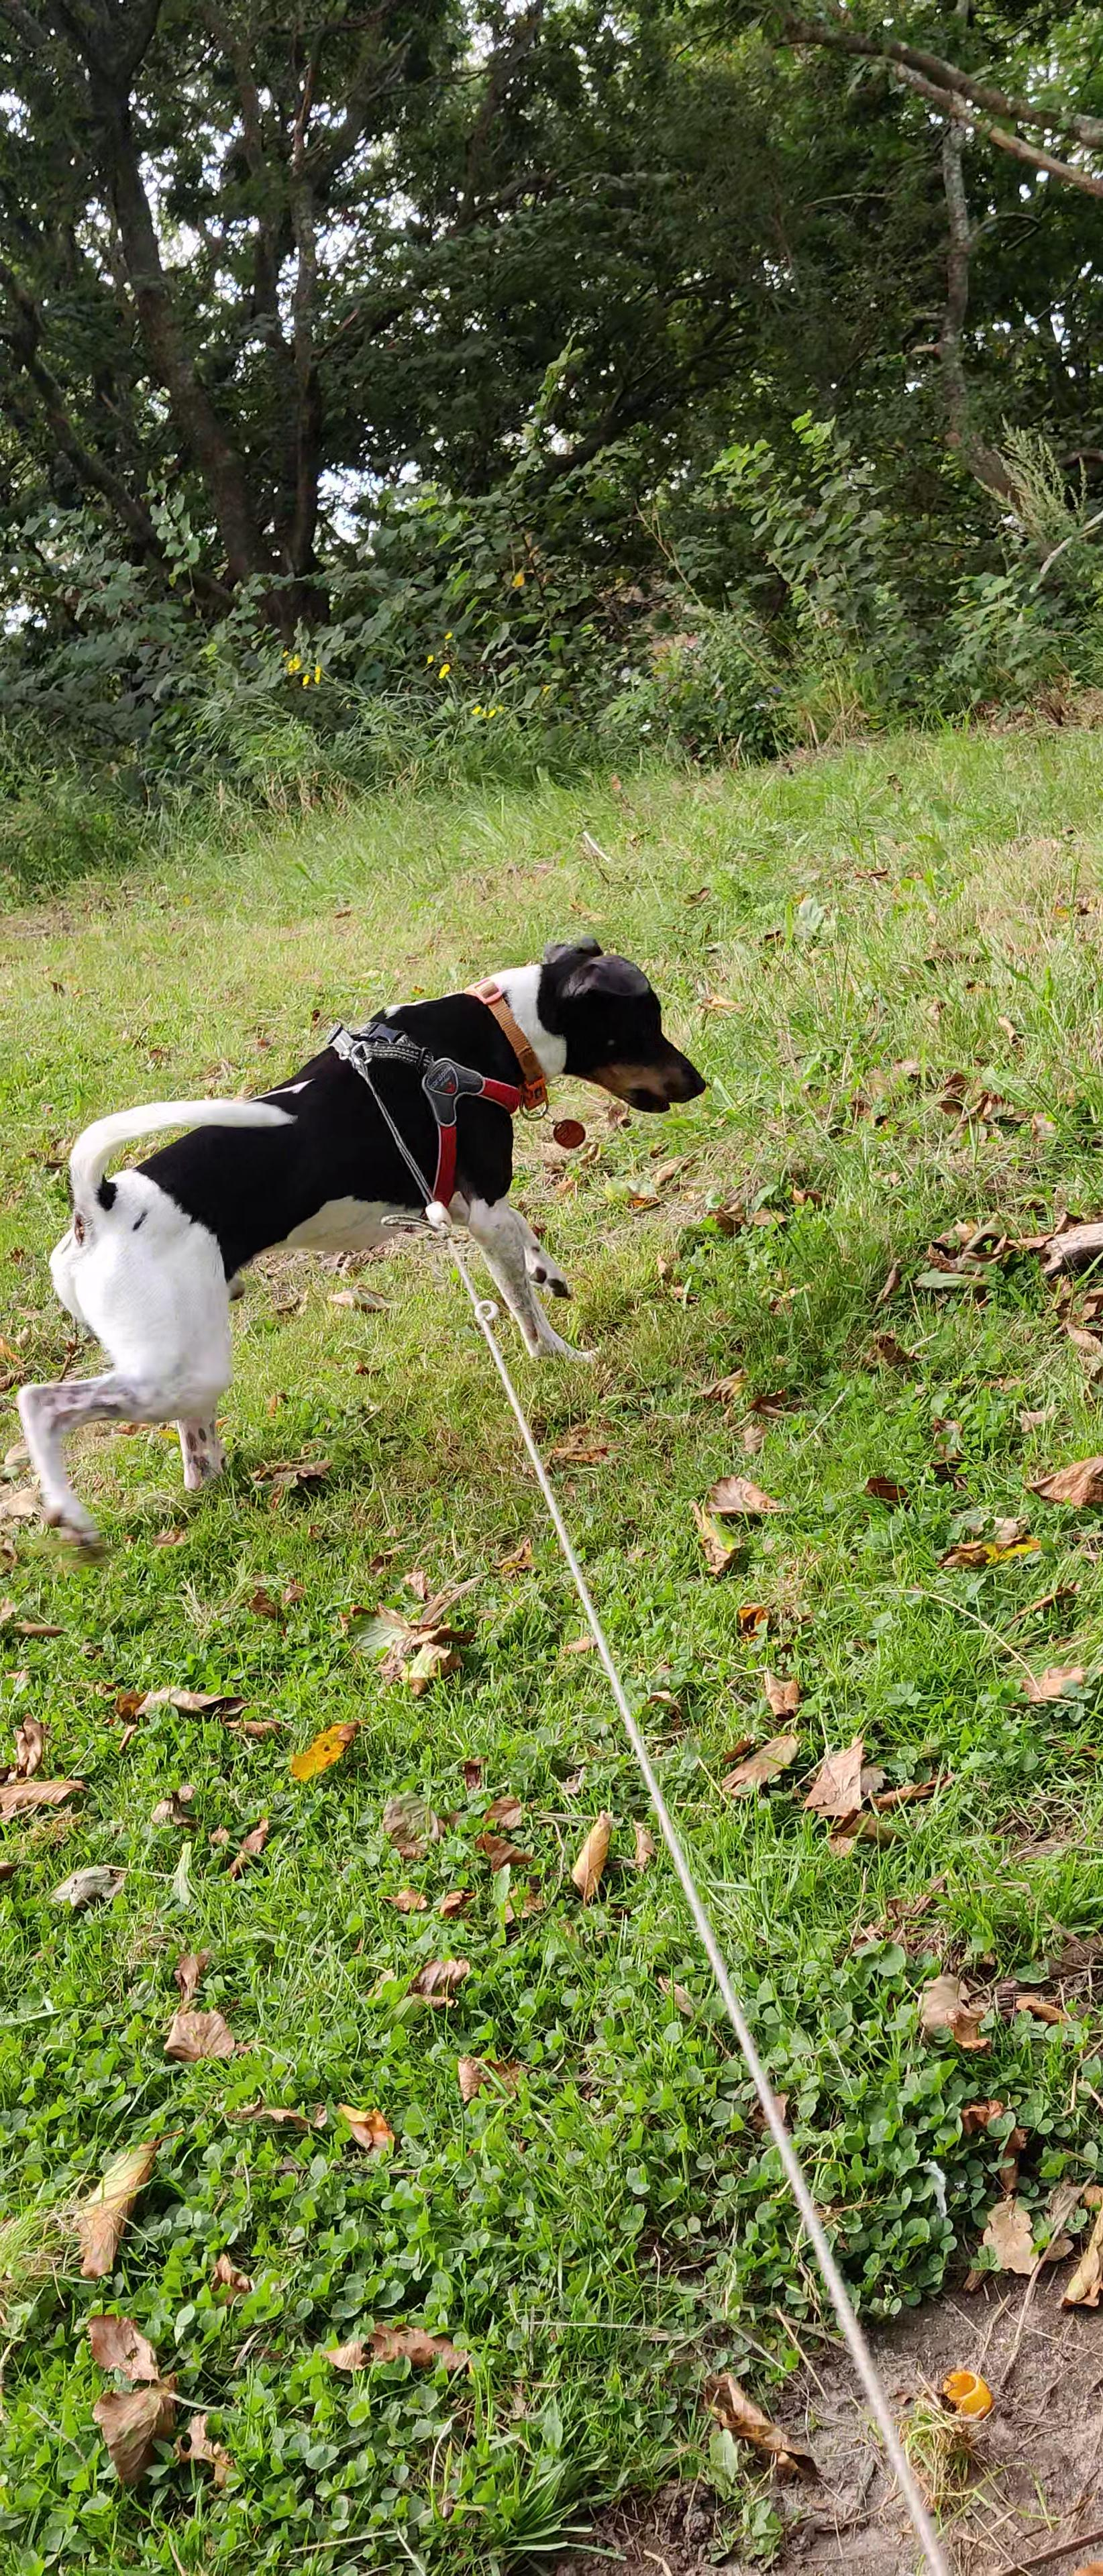Dog: (0, 930, 735, 1567)
